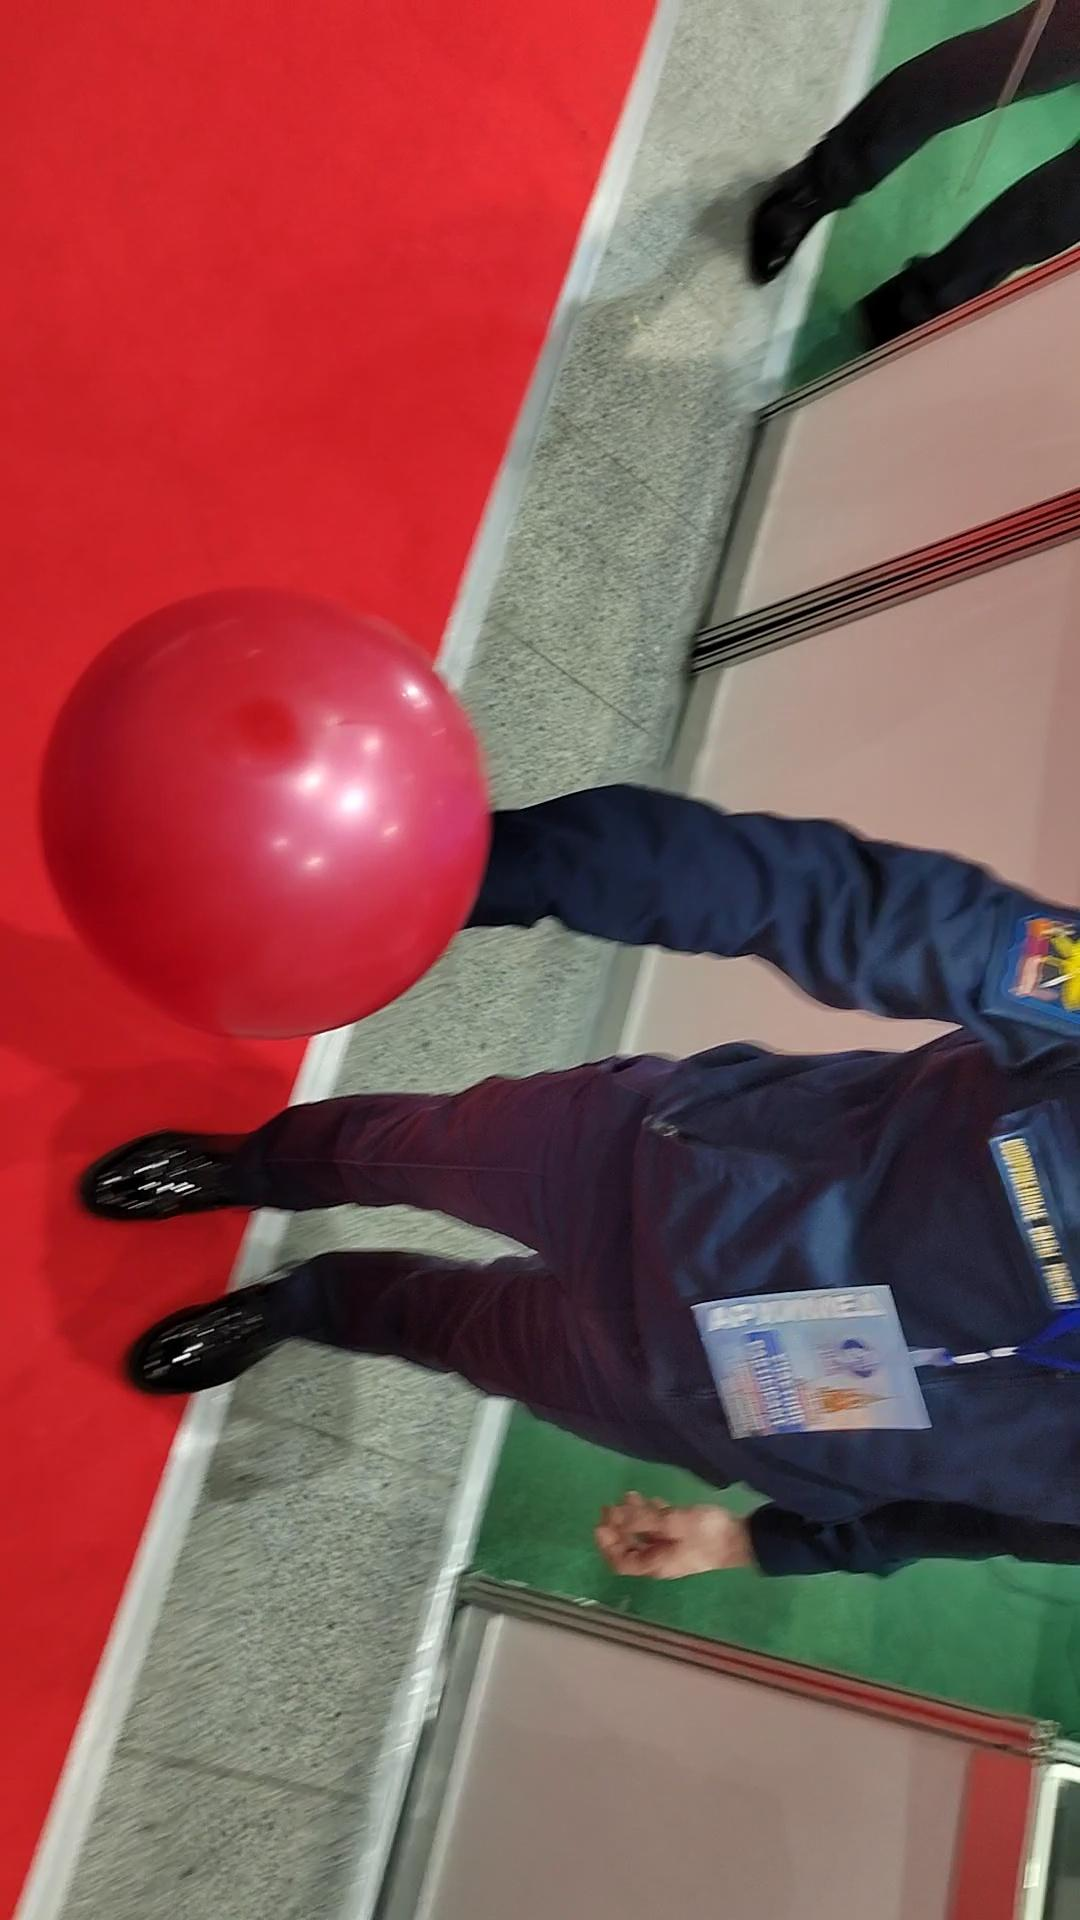red: (28, 576, 497, 1047)
